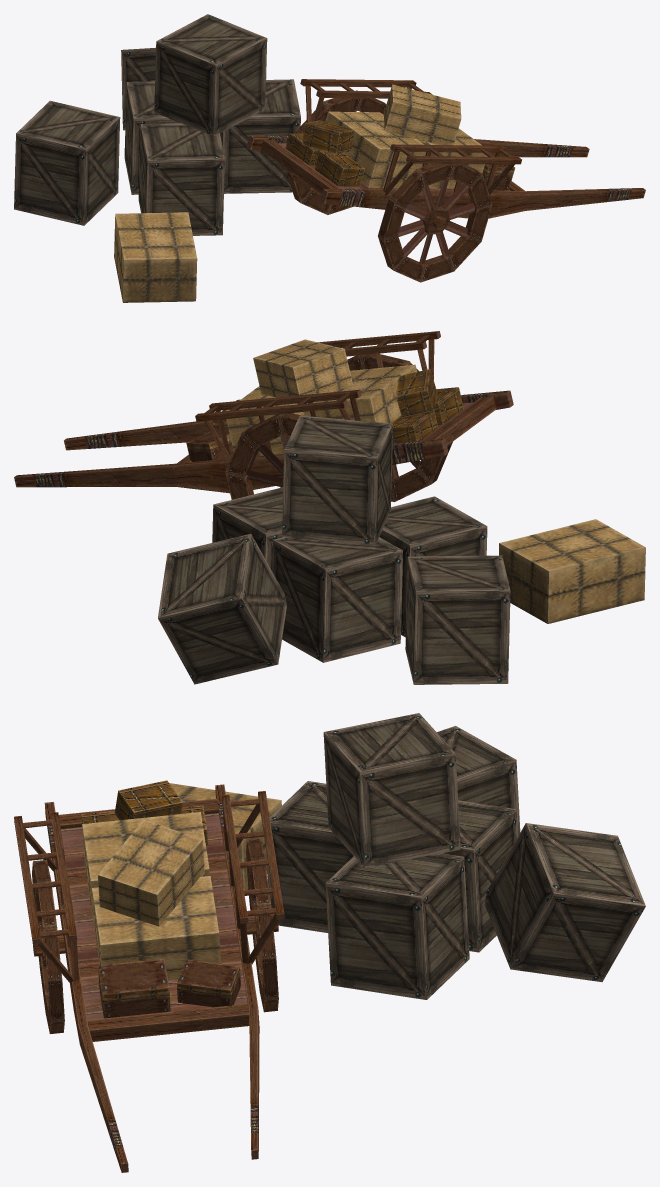
File: MaChe02.FBX
The picture shows the model from 3 angles, top to bottom: view 1: azimuth 30°, elevation 25°; view 2: azimuth 150°, elevation 25°; view 3: azimuth 270°, elevation 25°; orthographic projection. The views are drawn at different scales.
Visible parts, largest first — view 1: DrawCall_0459, DrawCall_0477, DrawCall_0479; view 2: DrawCall_0459, DrawCall_0477, DrawCall_0479; view 3: DrawCall_0459, DrawCall_0477, DrawCall_0479.
Boxes of the visible parts, bbox=[...] form: DrawCall_0459: bbox=[14, 14, 300, 235]; DrawCall_0477: bbox=[246, 79, 645, 282]; DrawCall_0479: bbox=[114, 212, 197, 302]; DrawCall_0459: bbox=[158, 415, 510, 684]; DrawCall_0477: bbox=[14, 331, 513, 501]; DrawCall_0479: bbox=[499, 519, 645, 623]; DrawCall_0459: bbox=[266, 713, 645, 999]; DrawCall_0477: bbox=[14, 780, 284, 1172]; DrawCall_0479: bbox=[169, 783, 281, 890].
Bounding box in the file's own units: 452 × 144 × 370.
